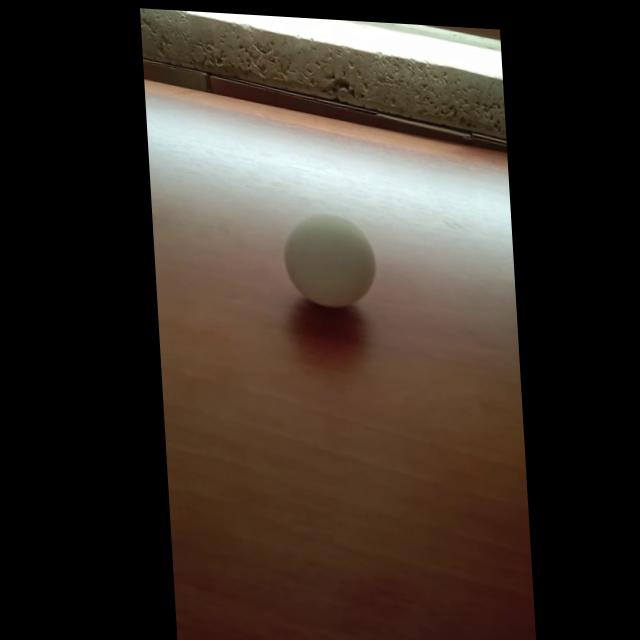white ball: (280, 210, 378, 311)
